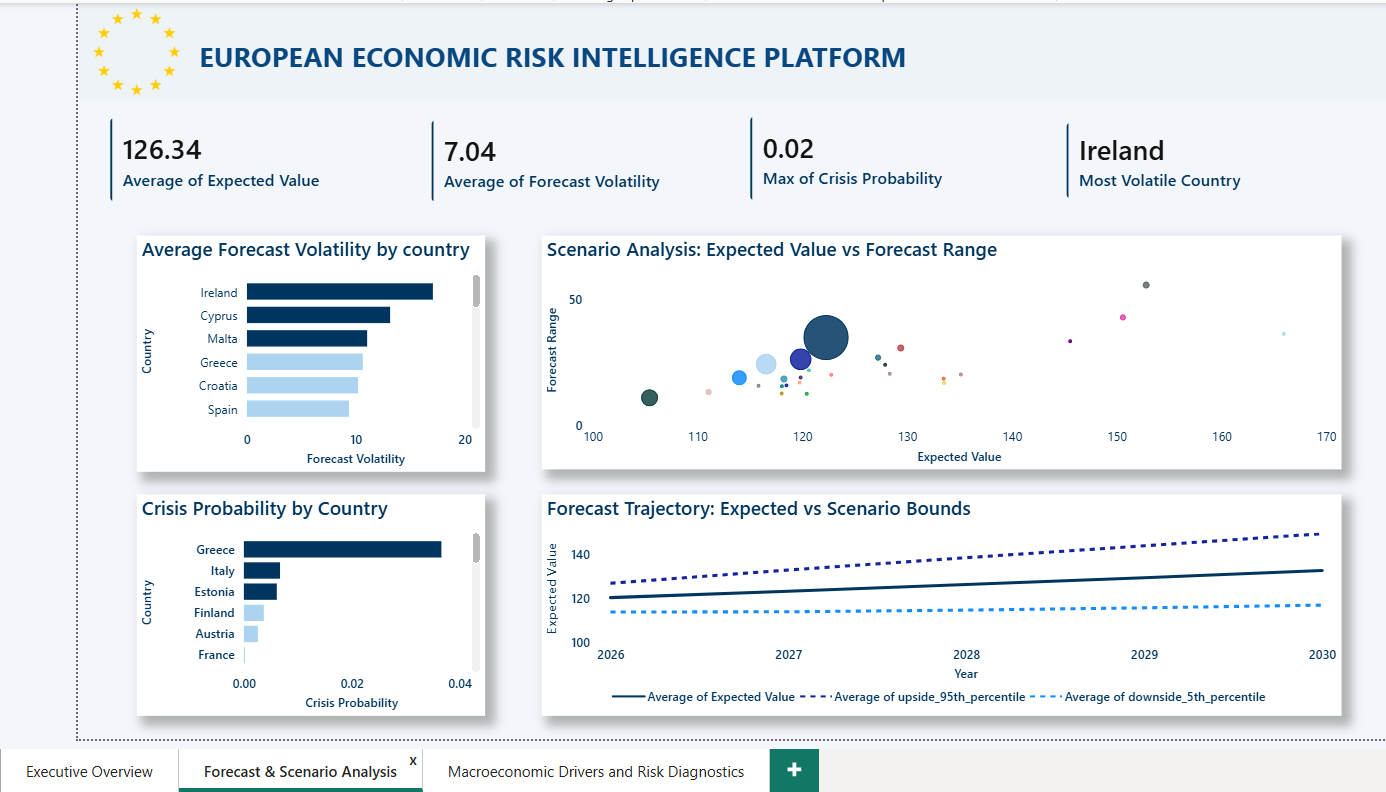

This screenshot's page, from the dashboard's own definition file:
{"tool":"powerbi","page":{"name":"Forecast & Scenario Analysis","canvas":[1280,720],"ordinal":1},"visuals":[{"type":"lineChart","title":"Forecast Trajectory: Expected vs Scenario Bounds","fields":{"Category":["Forecast.forecast_year"],"Y":["Avg(Forecast.expected_value)","Avg(Forecast.upside_95th_percentile)","Avg(Forecast.downside_5th_percentile)"]},"box":[453.7,480.6,782.6,216.4],"z":0},{"type":"clusteredBarChart","title":"Crisis Probability by Country","fields":{"Y":["Sum(Forecast.crisis_probability)"],"Category":["Forecast.country"]},"box":[57.5,480.6,341.2,216.4],"z":1000},{"type":"clusteredBarChart","title":"Average Forecast Volatility by country","fields":{"Y":["Avg(Forecast.forecast_std)"],"Category":["Forecast.country"]},"box":[57.5,227.4,341.2,231.1],"z":2000},{"type":"scatterChart","title":"Scenario Analysis: Expected Value vs Forecast Range ","fields":{"X":["Avg(Forecast.expected_value)"],"Y":["Avg(Forecast.forecast_range)"],"Size":["Avg(Forecast.crisis_probability)"],"Series":["Forecast.country"]},"box":[453.7,227.4,782.6,228.7],"z":3000},{"type":"shape","box":[0,0,1280.3,95.4],"z":4000},{"type":"image","box":[14.7,0,85.6,95.4],"z":5000},{"type":"textbox","box":[113.7,29.3,826.6,46.5],"z":6000},{"type":"cardVisual","fields":{"Data":["Avg(Forecast.expected_value)"]},"box":[14.7,95.4,310.6,116.2],"z":7000},{"type":"cardVisual","fields":{"Data":["Avg(Forecast.forecast_std)"]},"box":[328.9,97.8,295.9,114.9],"z":8000},{"type":"cardVisual","fields":{"Data":["Max(Forecast.crisis_probability)"]},"box":[640.8,94.2,300.8,116.2],"z":9000},{"type":"cardVisual","fields":{"Data":["Forecast.Most Volatile Country"]},"box":[950.1,100.3,315.5,108.8],"z":10000}]}

Visuals, with their boxes on the page's 1280x720 design canvas (x1, y1, x2, y2). These are canvas units, not pixel positions in the 1386x792 screenshot, which may show the page scaled, cropped or inside an application window:
"Forecast Trajectory: Expected vs Scenario Bounds" lineChart: 454/481/1236/697
"Crisis Probability by Country" clusteredBarChart: 58/481/399/697
"Average Forecast Volatility by country" clusteredBarChart: 58/227/399/458
"Scenario Analysis: Expected Value vs Forecast Range " scatterChart: 454/227/1236/456
shape: 0/0/1280/95
image: 15/0/100/95
textbox: 114/29/940/76
cardVisual - Avg(Forecast.expected_value): 15/95/325/212
cardVisual - Avg(Forecast.forecast_std): 329/98/625/213
cardVisual - Max(Forecast.crisis_probability): 641/94/942/210
cardVisual - Forecast.Most Volatile Country: 950/100/1266/209
